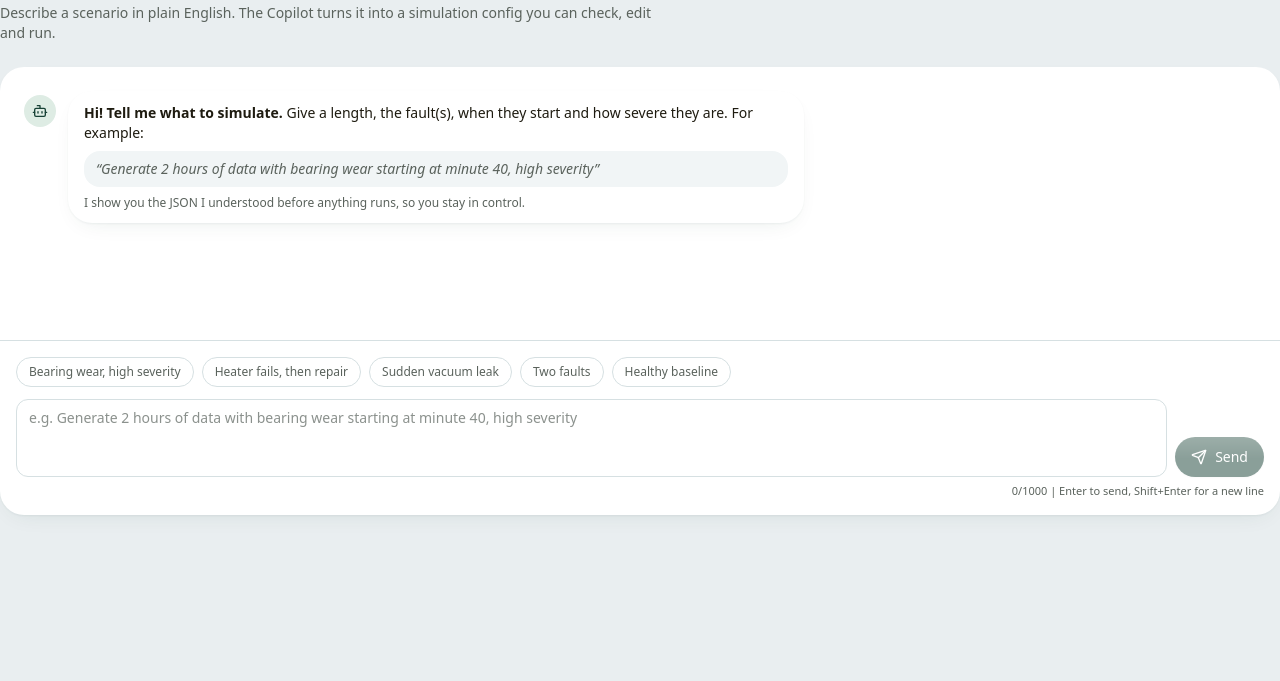
it: Scenario Copilot page › Run posts the (edited) JSON to /api/simulate and shows the run
Click the button "Healthy baseline" at (671, 372), box [612,356,731,386]
(page scrolled)
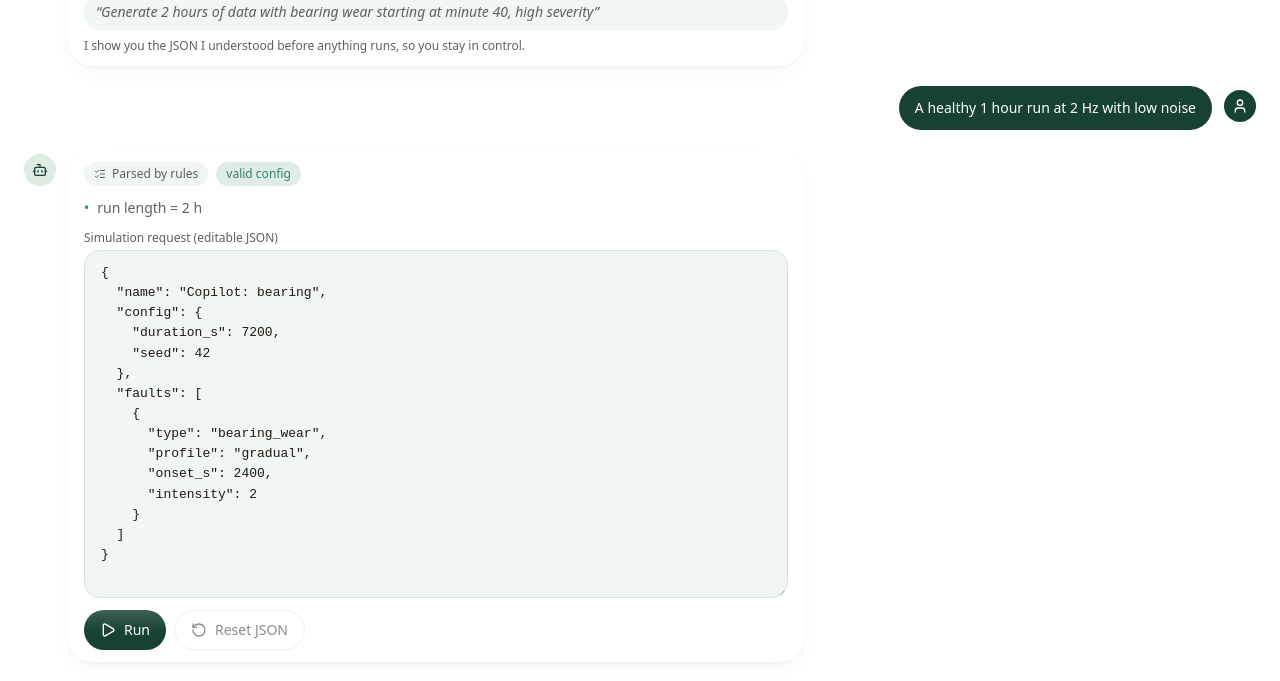
Expected: the text box labelled "Simulation request (editable JSON)" is shown, [85,251,787,597]
Click the button "Run" at (125, 630), box [84,610,166,650]
(page scrolled)
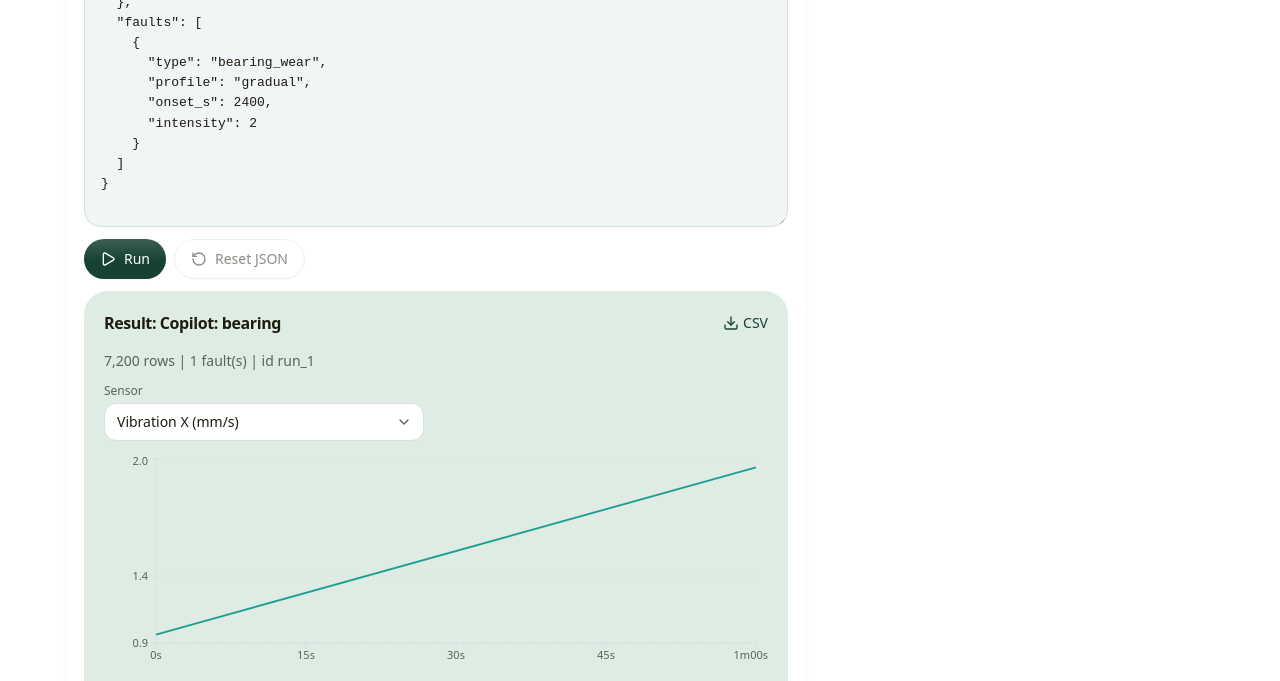
Expected: the heading "Result: Copilot: bearing" is shown, [104,311,281,335]
